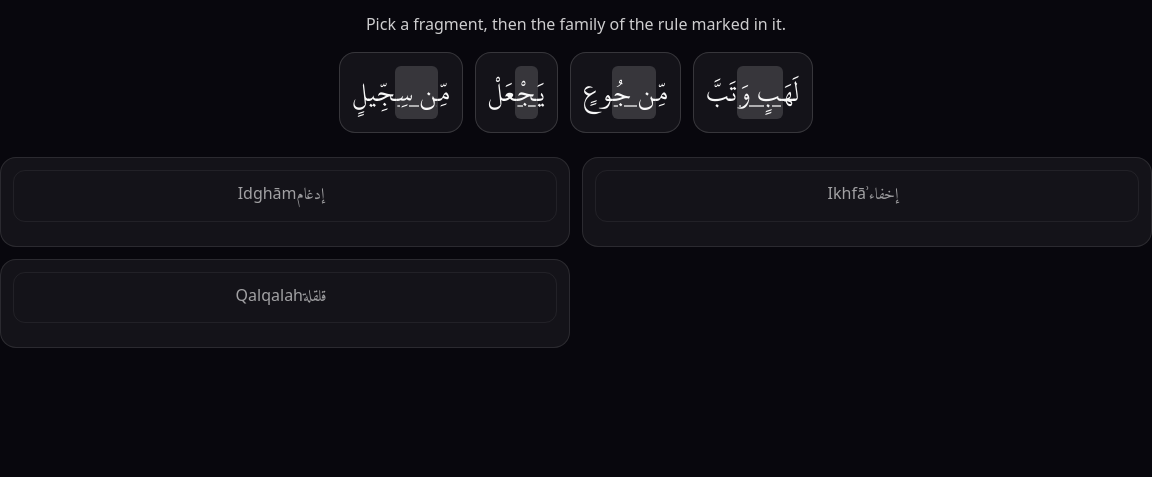
Scenario: FamilySorter — assignment › locks a fragment dropped in the right bucket
Click the button with test id "fragment-ikhfa-1" at (626, 92), box [570,52,681,133]
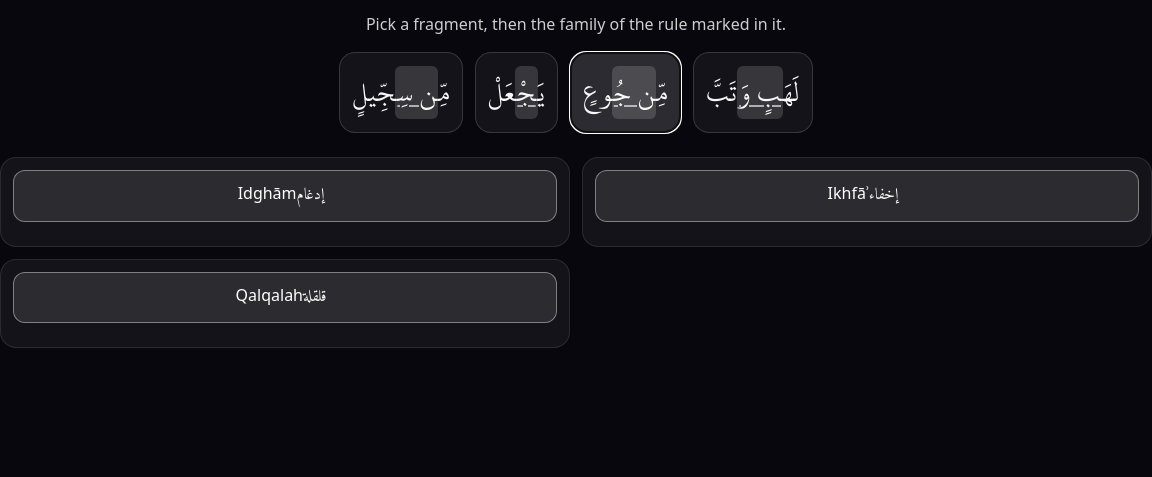
Click the button with aria-label "Place in Ikhfāʾ" at (867, 196), box [595,170,1139,222]
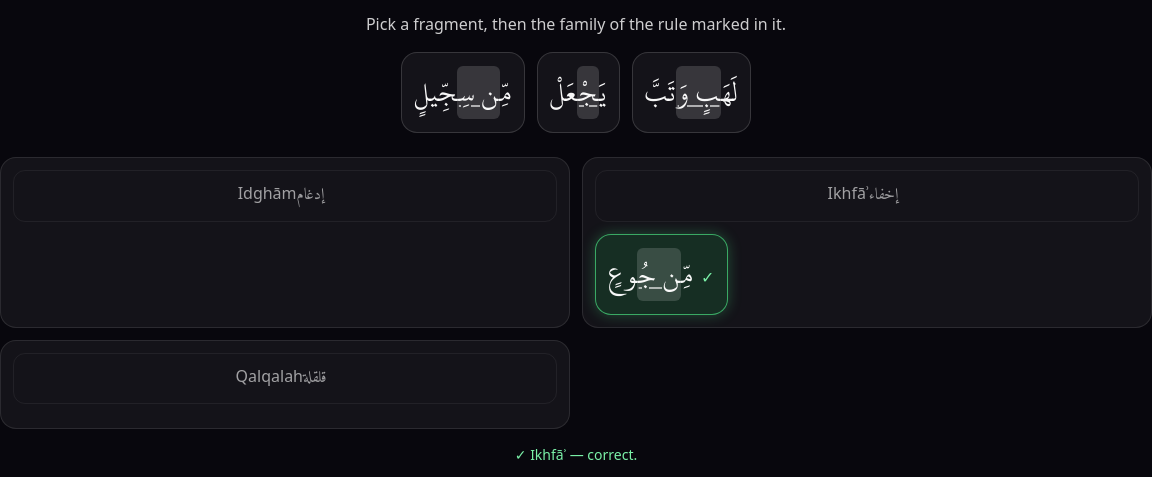
Now the button with test id "fragment-ikhfa-1" is disabled, box [595,234,728,315]
